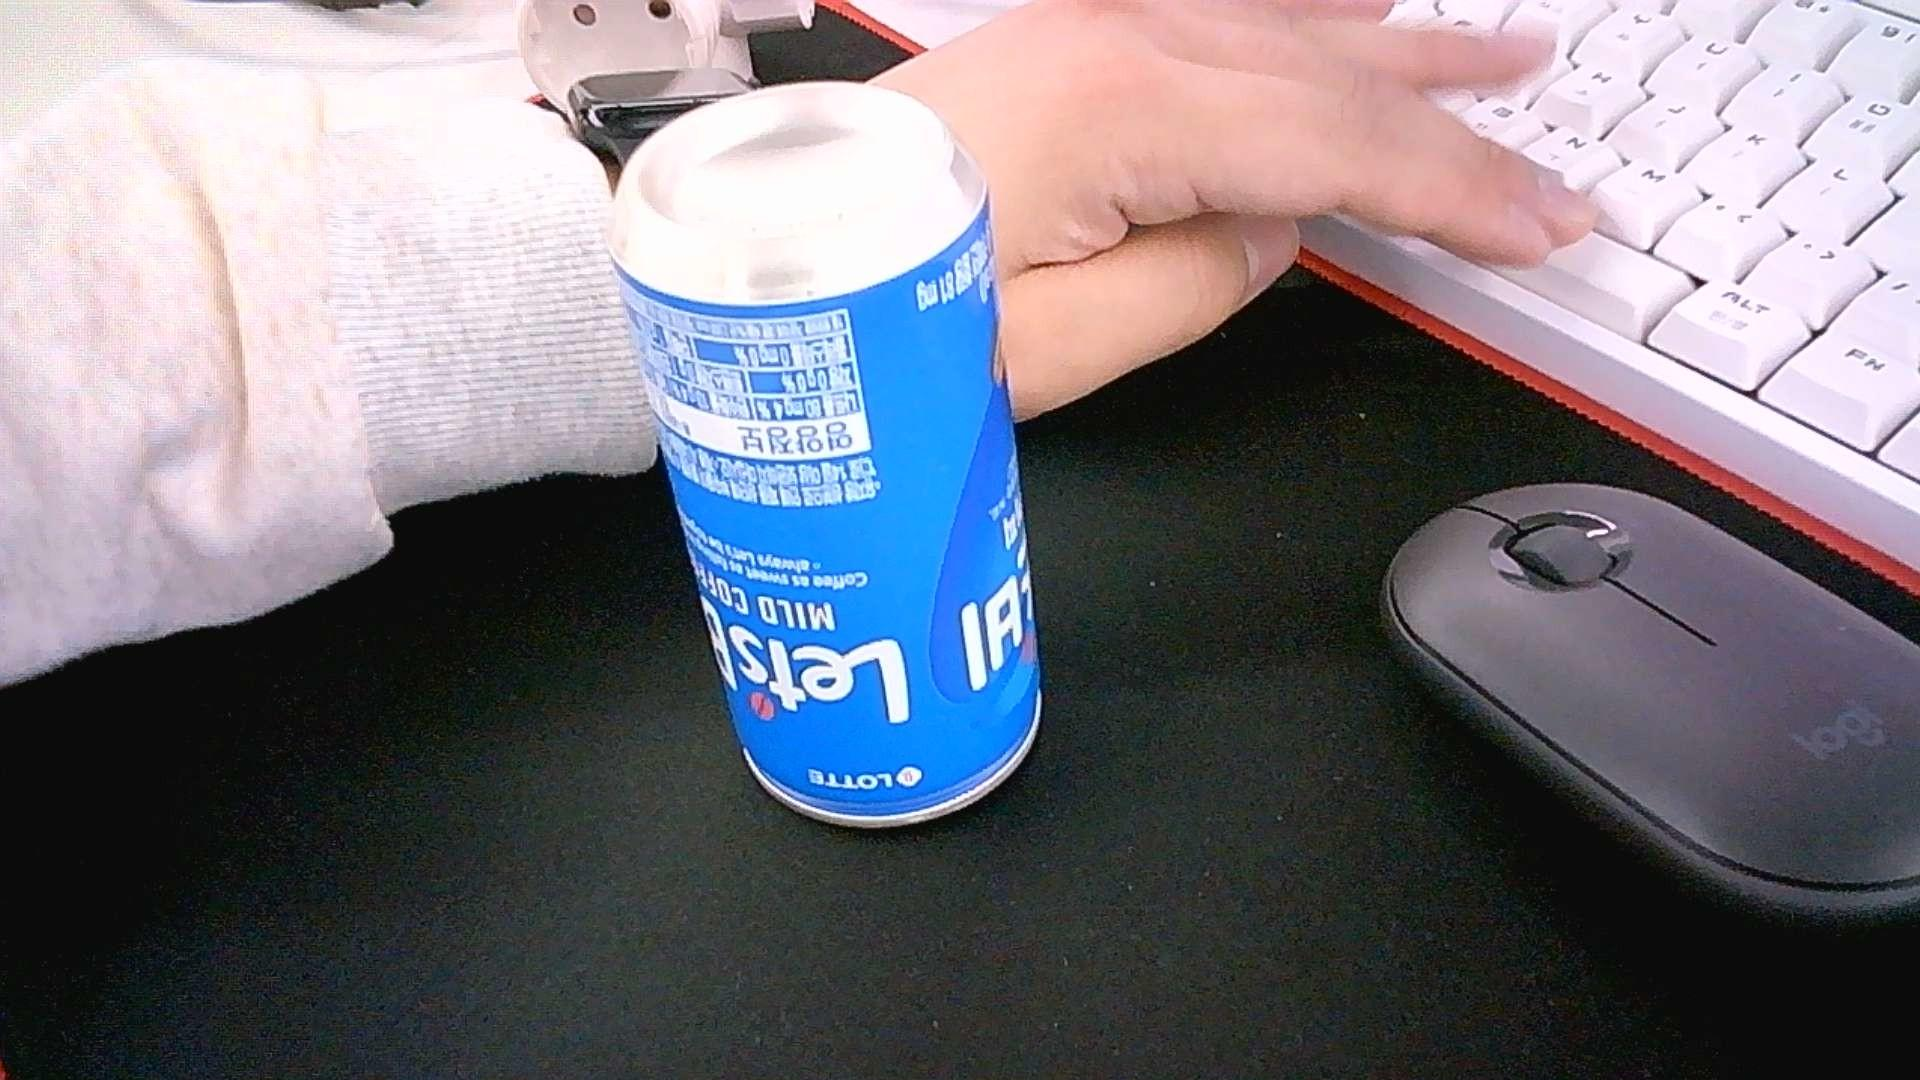letsbe: (607, 82, 1044, 827)
